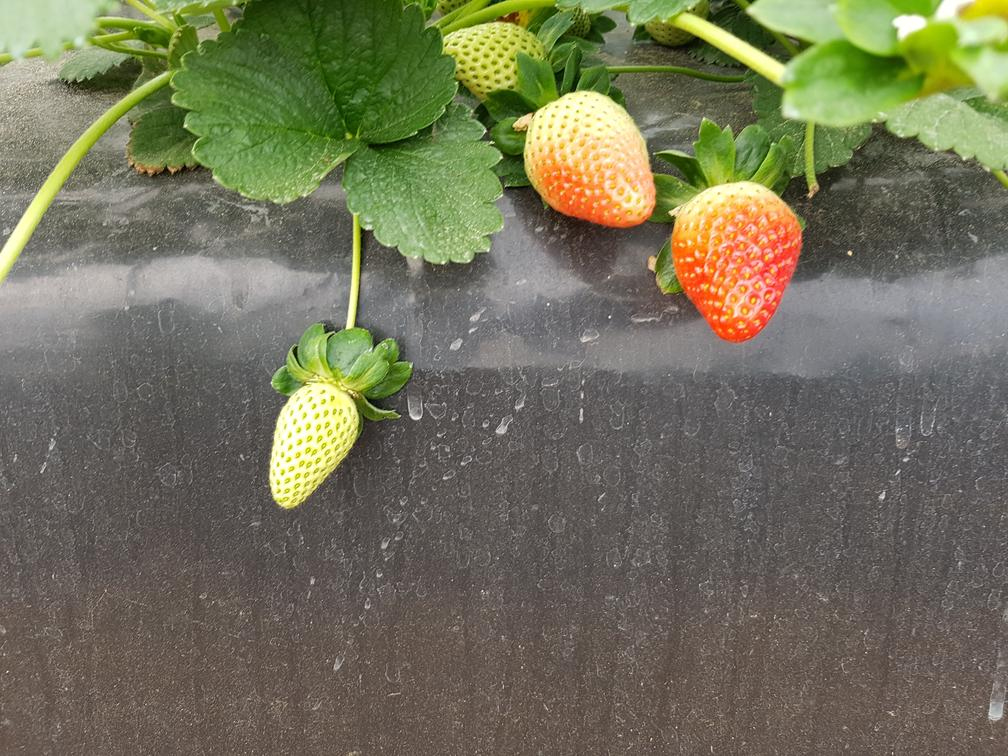Ripe: (677, 181, 809, 346), (520, 89, 660, 231)
Unripe: (257, 377, 371, 513), (440, 12, 554, 97)
